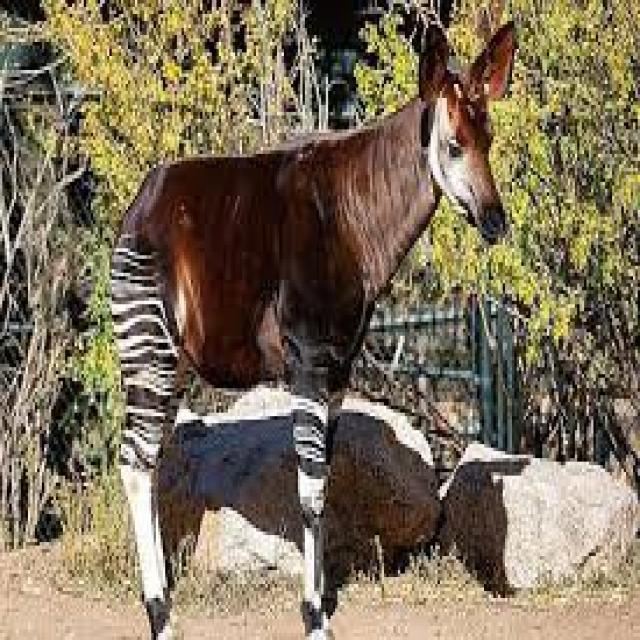Okapi: (106, 14, 519, 637)
